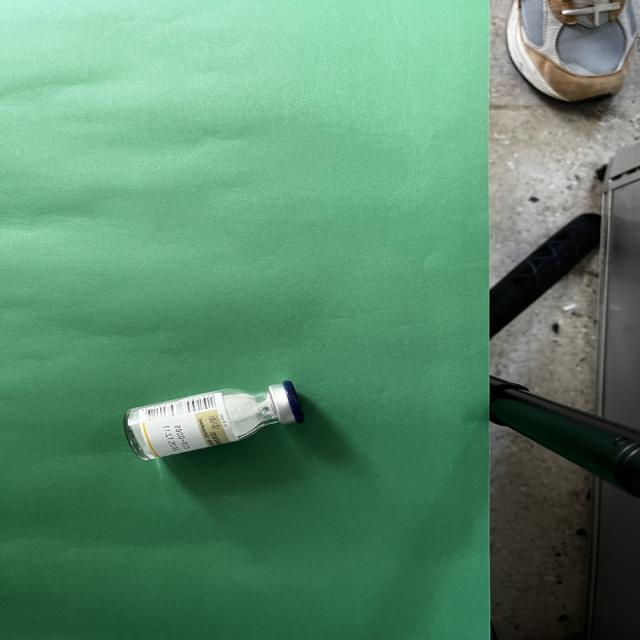Vials: (123, 381, 305, 460)
